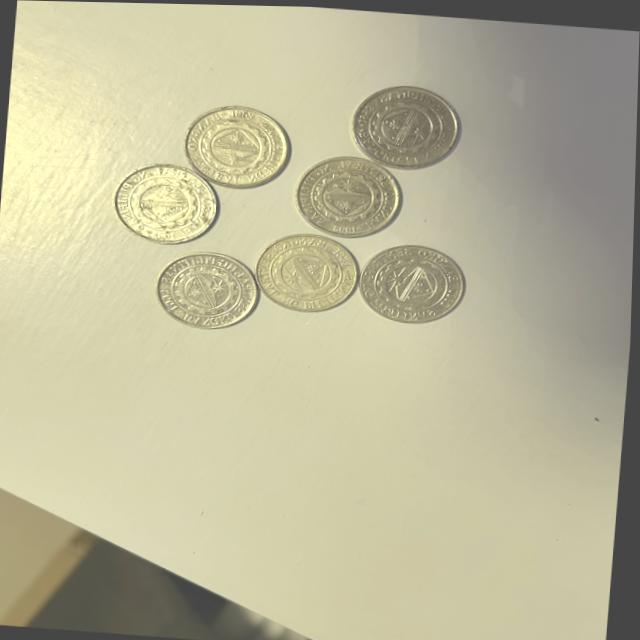1_Old_Back: (362, 95, 449, 156), (369, 252, 455, 311), (121, 175, 208, 233), (264, 243, 347, 301), (311, 166, 387, 227), (167, 261, 247, 316), (195, 117, 277, 170)
